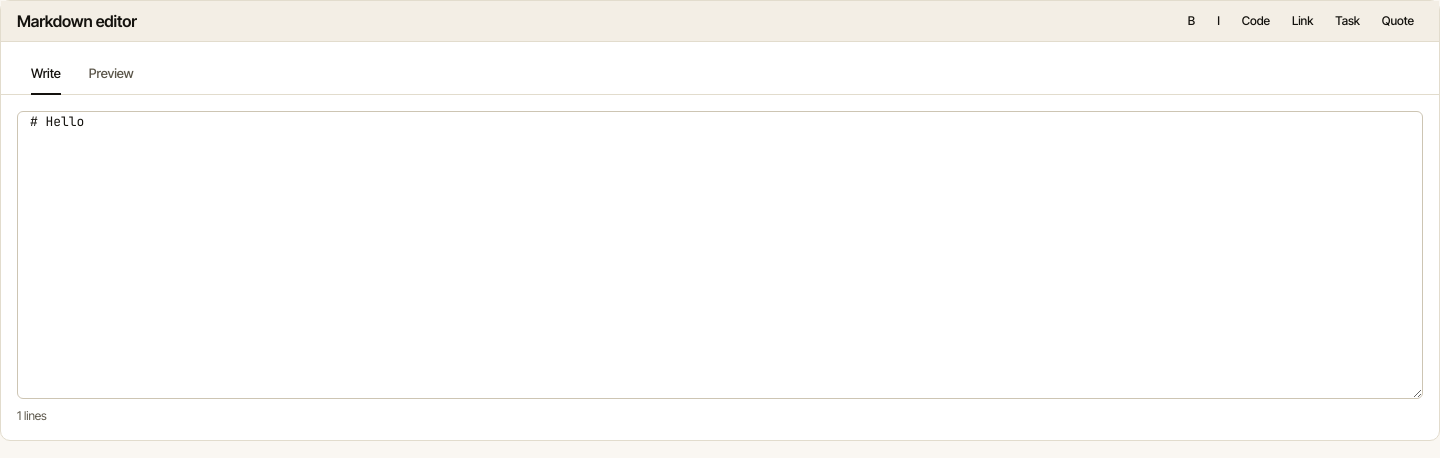
markdown rendering UI › edits markdown and refreshes preview through the same-origin route
Click the button "B".
click(1191, 21)  # box [1179,9,1204,33]
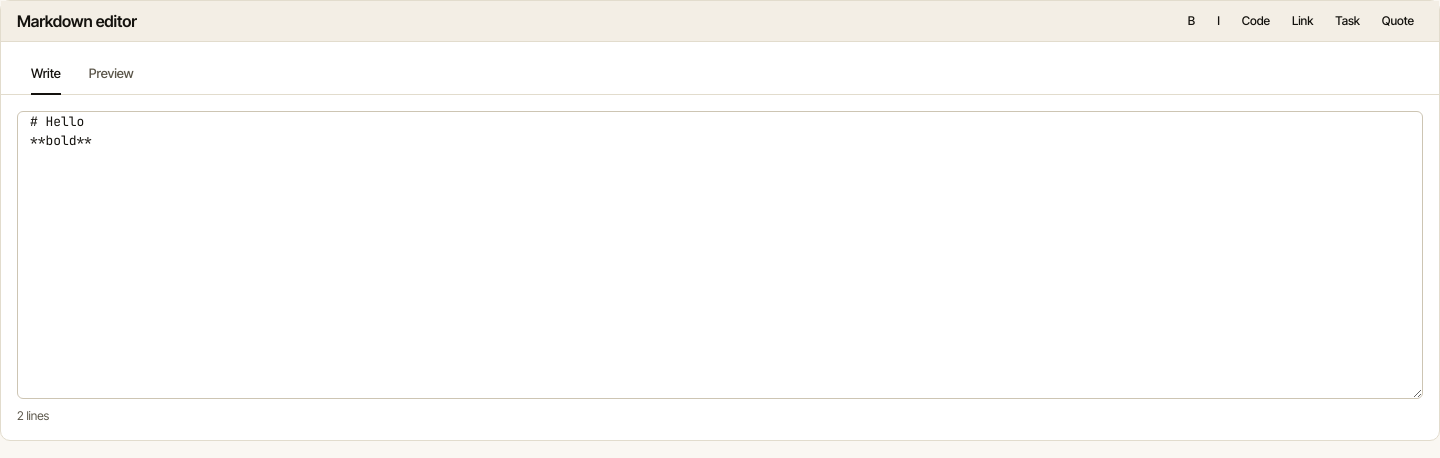
Click the tab "Preview".
click(111, 74)  # box [75,54,148,94]
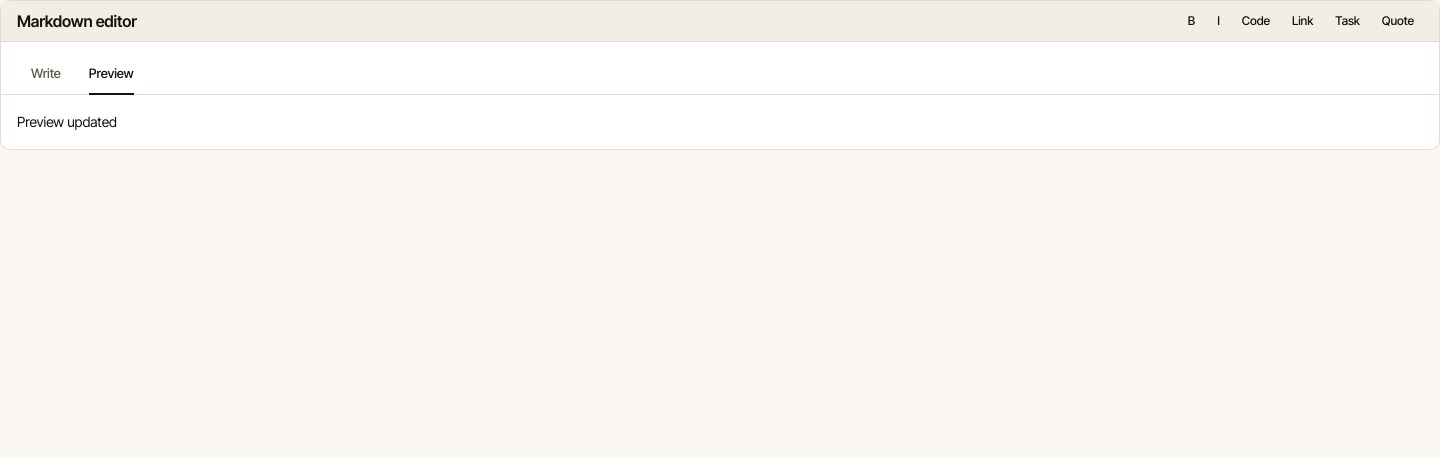
Check: the text "Preview updated" is shown, box [17,112,117,130]
